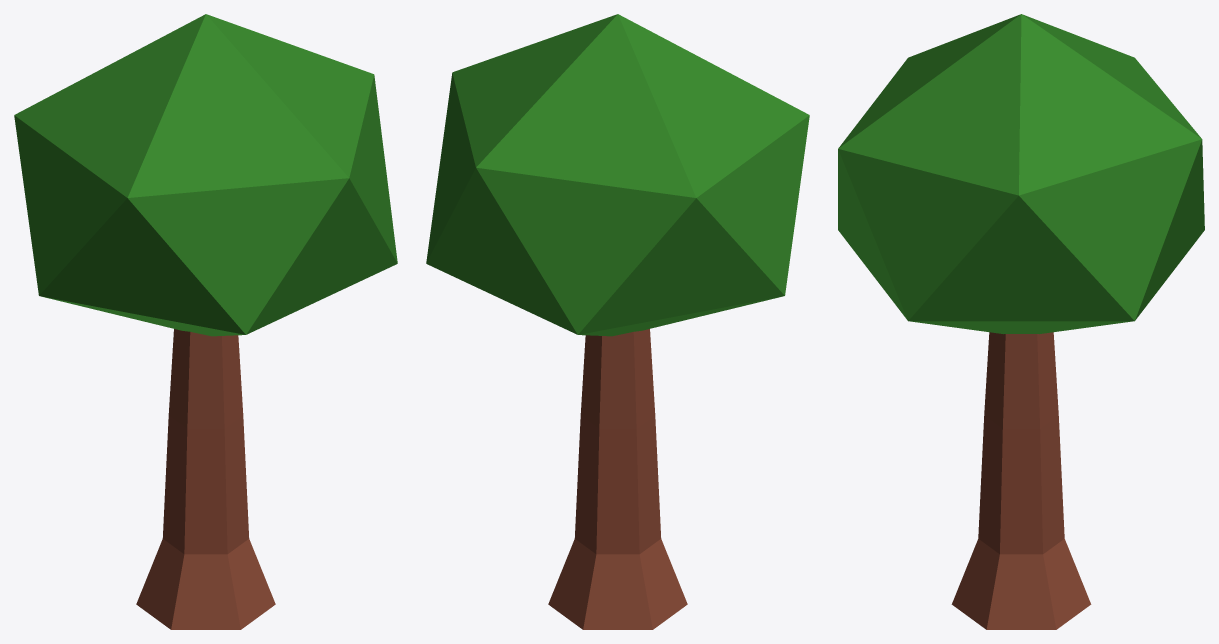
File: Boom3.fbx
The picture shows the model from 3 angles, left to right: view 1: azimuth 30°, elevation 25°; view 2: azimuth 150°, elevation 25°; view 3: azimuth 270°, elevation 25°; orthographic projection.
Parts seen in each view (by area): view 1: Cylinder.002; view 2: Cylinder.002; view 3: Cylinder.002.
Boxes of the visible parts, x1,y1,x2,y2 form: Cylinder.002: [14, 14, 397, 629]; Cylinder.002: [426, 14, 809, 629]; Cylinder.002: [838, 14, 1204, 629].
Size of the model in its own units: 73.43 by 124 by 69.85.
